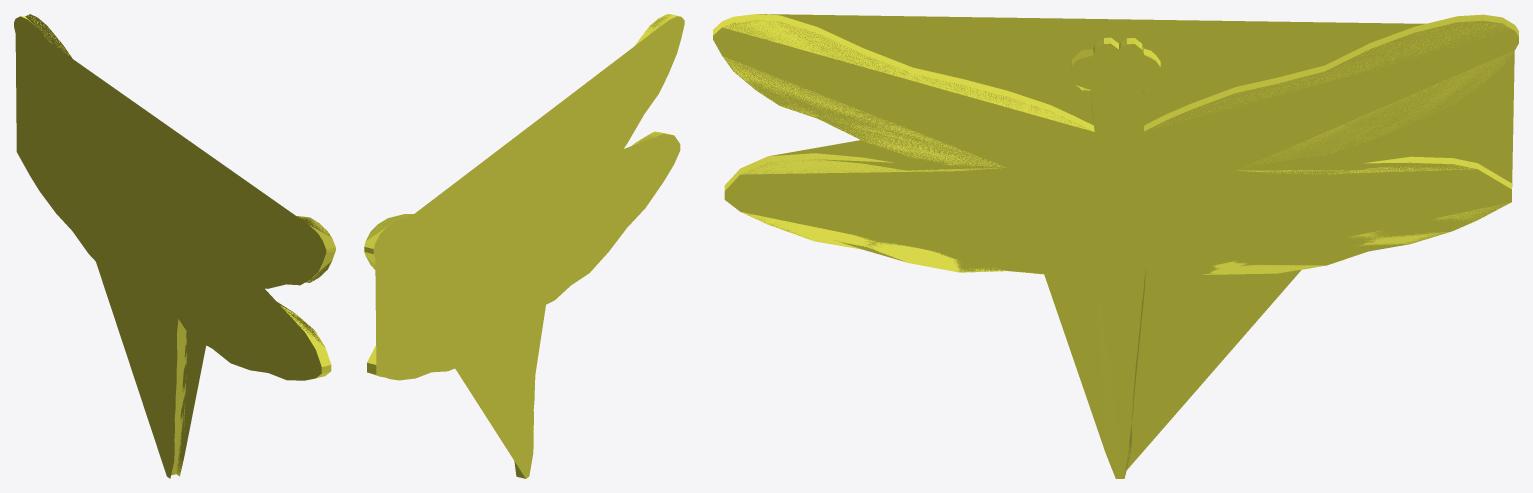
The model's file is Coin1.fbx.
3 views of the same model, side by side, from view 1: azimuth 30°, elevation 25°; view 2: azimuth 150°, elevation 25°; view 3: azimuth 270°, elevation 25° (orthographic). The views are drawn at different scales.
Visible parts, largest first — view 1: pCube1; view 2: pCube1; view 3: pCube1.
Part boxes in pixels (x1=…): pCube1: x1=14, y1=14, x2=335, y2=478; pCube1: x1=364, y1=14, x2=684, y2=478; pCube1: x1=713, y1=14, x2=1518, y2=478.
Size of the model in its own units: 0.1423 by 5.03 by 8.01.
